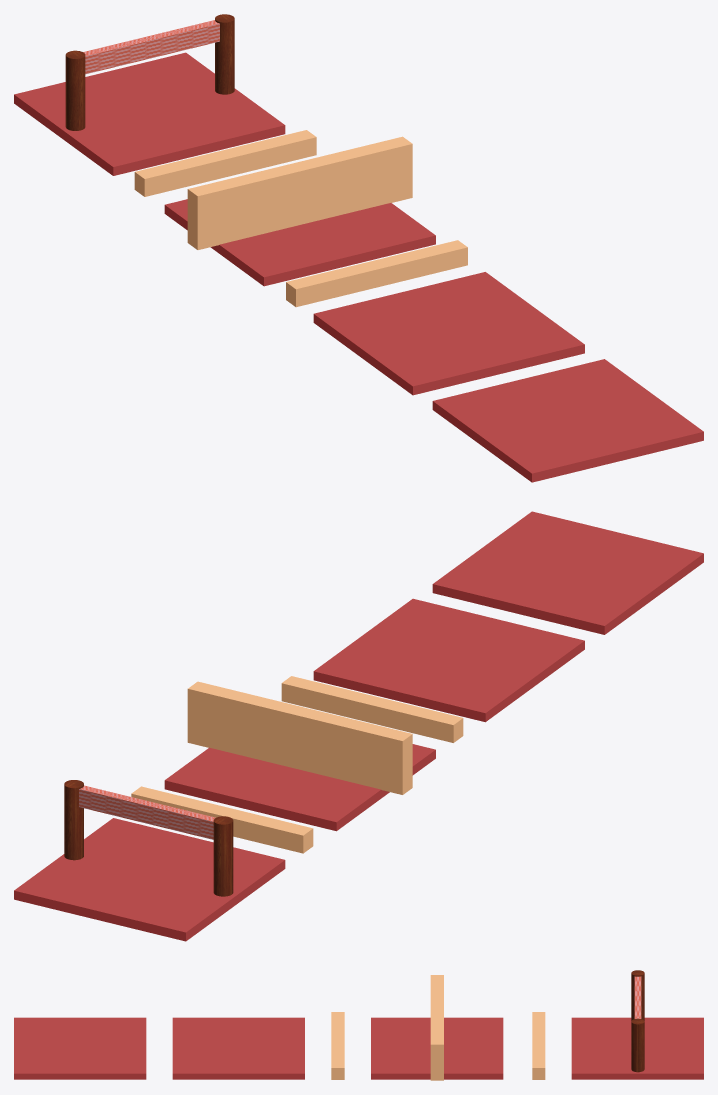
Rendered from second.fbx.
3 renders of one model, top to bottom at view 1: azimuth 30°, elevation 25°; view 2: azimuth 150°, elevation 25°; view 3: azimuth 270°, elevation 25°, orthographic. The views are drawn at different scales.
Visible parts, largest first — view 1: plane, plane__1_, plane__3_, plane__2_, block3, block__1_, block, block2, block_1, Cube, Cylinder, Cylinder__1_; view 2: plane, plane__1_, plane__3_, plane__2_, block3, block, block2, block_1, block__1_, Cube, Cylinder, Cylinder__1_; view 3: plane, plane__1_, plane__3_, plane__2_, block3, block, block__1_, Cylinder__1_, Cylinder, Cube.
Boxes of the visible parts, box(x1,y1,x2,y2) form: plane: box(432, 359, 703, 482); plane__1_: box(313, 272, 584, 395); plane__3_: box(14, 52, 285, 175); plane__2_: box(164, 199, 435, 286); block3: box(187, 136, 412, 213); block__1_: box(134, 130, 316, 196); block: box(286, 240, 467, 307); block2: box(187, 162, 412, 231); block_1: box(187, 180, 412, 249); Cube: box(83, 20, 219, 74); Cylinder: box(65, 50, 85, 130); Cylinder__1_: box(215, 14, 234, 94); plane: box(432, 511, 703, 634); plane__1_: box(313, 598, 584, 722); plane__3_: box(14, 818, 285, 941); plane__2_: box(164, 744, 435, 831); block3: box(187, 681, 412, 758); block: box(281, 676, 463, 742); block2: box(187, 707, 412, 776); block_1: box(187, 725, 412, 794); block__1_: box(131, 786, 313, 853); Cube: box(79, 785, 215, 839); Cylinder: box(213, 816, 233, 896); Cylinder__1_: box(64, 780, 83, 860); plane: box(14, 1017, 146, 1079); plane__1_: box(172, 1017, 304, 1079); plane__3_: box(571, 1017, 703, 1079); plane__2_: box(371, 1017, 503, 1079); block3: box(430, 975, 443, 1056); block: box(331, 1012, 344, 1079); block__1_: box(532, 1012, 545, 1079); Cylinder__1_: box(631, 1018, 644, 1072); Cylinder: box(631, 970, 644, 1020); Cube: box(634, 976, 641, 1018).
Bounding box in the file's own units: 1250 × 455 × 5217.
